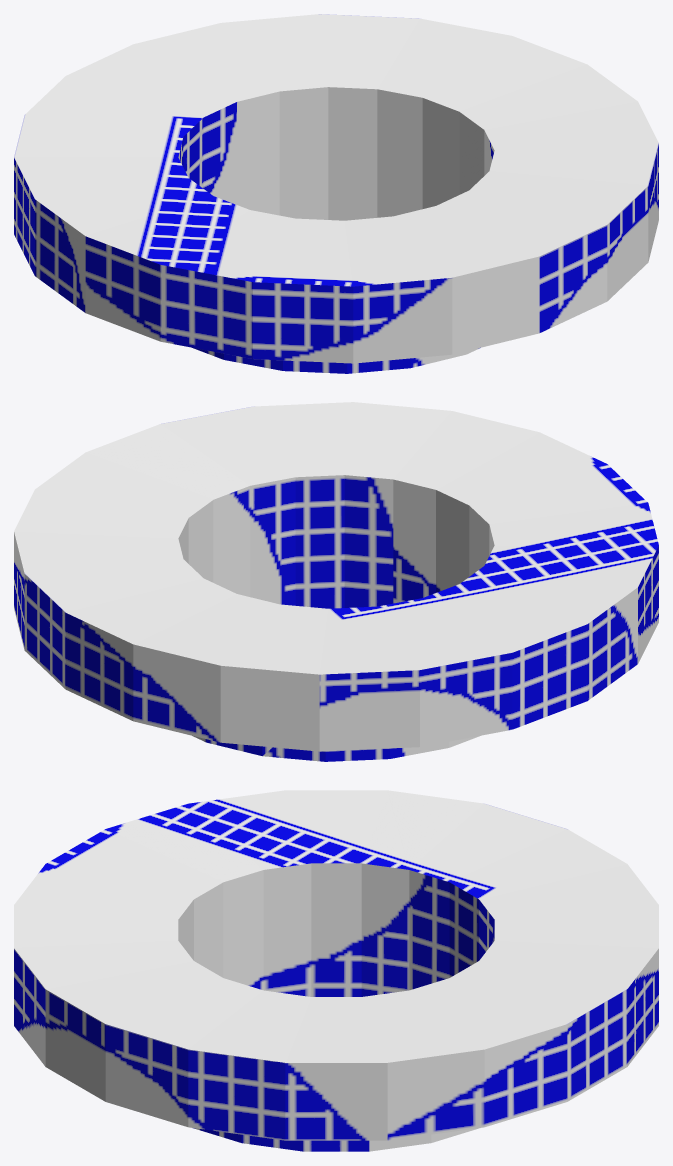
The model's file is hanoi_blue_disk.dae.
The picture shows the model from 3 angles, top to bottom: view 1: azimuth 30°, elevation 25°; view 2: azimuth 150°, elevation 25°; view 3: azimuth 270°, elevation 25°; orthographic projection.
Parts seen in each view (by area): view 1: blue_disk; view 2: blue_disk; view 3: blue_disk.
Boxes of the visible parts, x1=… form: blue_disk: x1=14, y1=14, x2=658, y2=373; blue_disk: x1=14, y1=402, x2=658, y2=761; blue_disk: x1=14, y1=790, x2=658, y2=1151.
Size of the model in its own units: 0.205 by 0.205 by 0.05.
